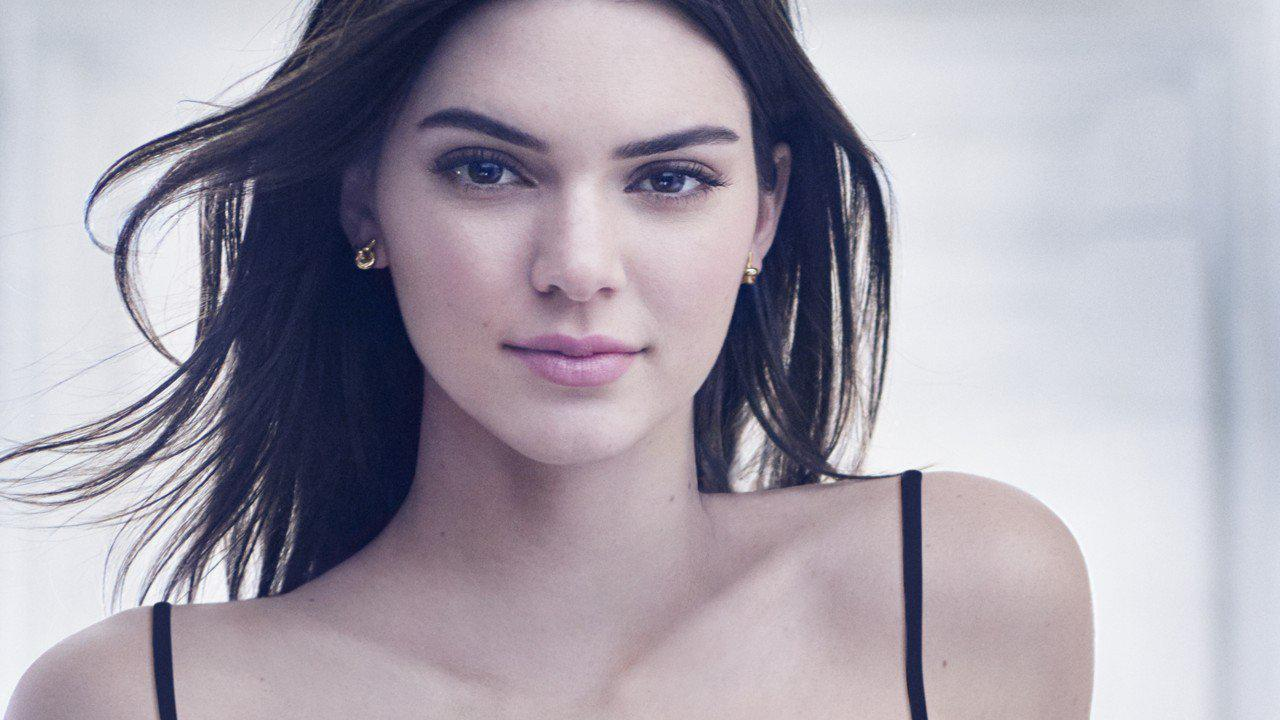Sober: (412, 25, 748, 428)
